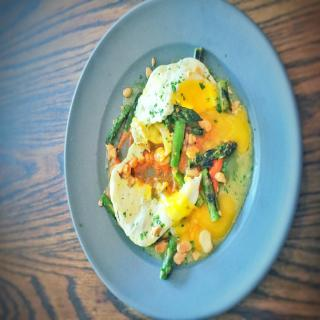Egg: (108, 57, 256, 261)
